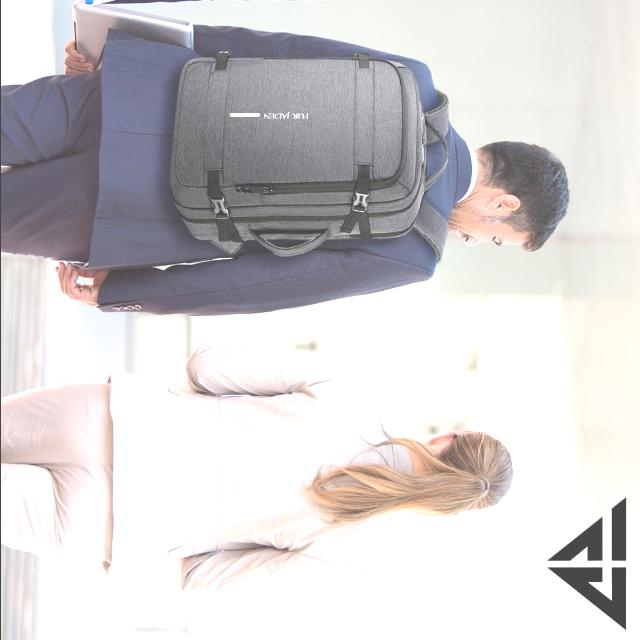backpack: (169, 54, 451, 266)
